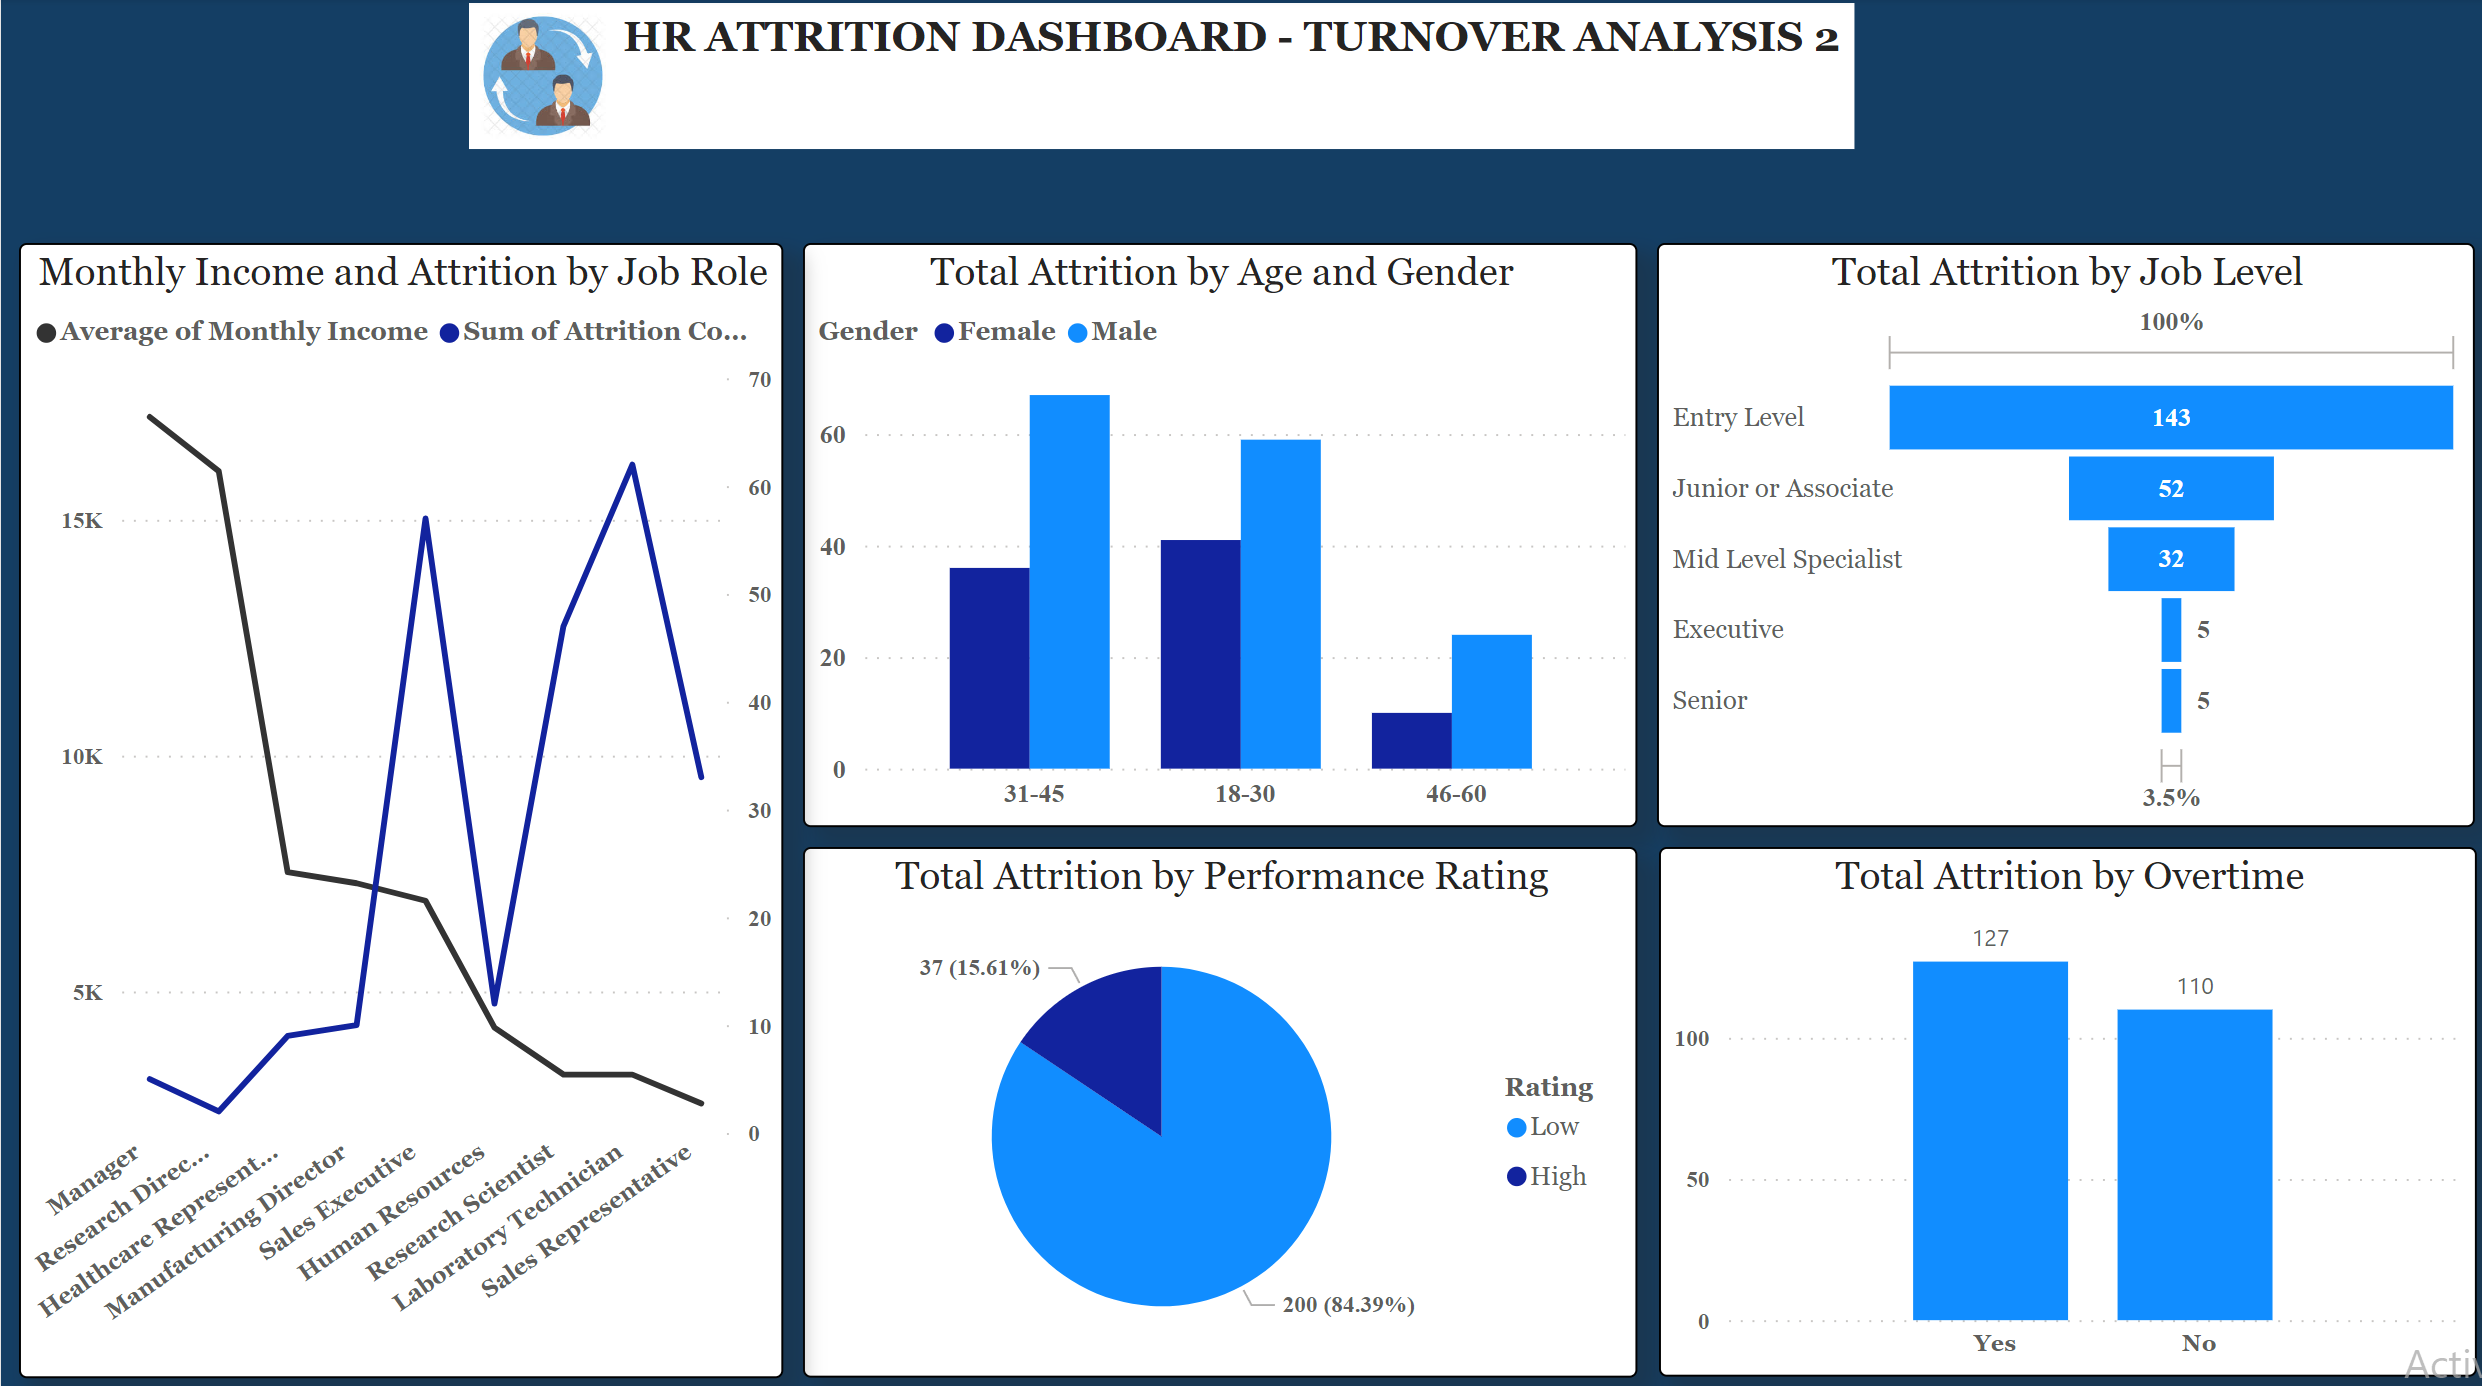

Layout of this report page (visuals, bound fields, positions):
{"tool":"powerbi","page":{"name":"TURNOVER ANALYSIS 2","canvas":[1280,720],"ordinal":2},"visuals":[{"type":"textbox","box":[240.3,3.6,711.4,74.9],"z":0},{"type":"image","box":[240.3,3.6,76.1,74.9],"z":1000},{"type":"clusteredColumnChart","title":"Total Attrition by Age and Gender","fields":{"Y":["Sum(HR-Employee-Attrition.Attraction Count)"],"Series":["HR-Employee-Attrition.Gender"],"Category":["HR-Employee-Attrition.Age (groups)"]},"box":[411.6,126.1,428.3,299.8],"z":2000},{"type":"pieChart","title":"Total Attrition by Performance Rating","fields":{"Category":["HR-Employee-Attrition.Performance Rating (groups) 2"],"Y":["Sum(HR-Employee-Attrition.Attraction Count)"]},"box":[411.6,436.6,428.3,272.4],"z":3000},{"type":"funnel","title":"Total Attrition by Job Level","fields":{"Category":["HR-Employee-Attrition.Job Level (groups)"],"Y":["Sum(HR-Employee-Attrition.Attraction Count)"]},"box":[850.6,126.1,419.9,299.8],"z":4000},{"type":"lineChart","title":"Monthly Income and Attrition by Job Role","fields":{"Y":["Avg(HR-Employee-Attrition.Monthly Income)"],"Category":["HR-Employee-Attrition.Job Role"],"Y2":["Sum(HR-Employee-Attrition.Attraction Count)"]},"box":[9.5,126.1,392.6,582.9],"z":5000},{"type":"columnChart","title":"Total Attrition by Overtime","fields":{"Category":["HR-Employee-Attrition.OverTime"],"Y":["Sum(HR-Employee-Attrition.Attraction Count)"]},"box":[851,437,420,272],"z":6000}]}

Visuals, with their boxes in screenshot pixels (x1, y1, x2, y2), scaled from the page's 1280x720 canvas onto the 2482x1386 screenshot:
textbox: <bbox>466, 7, 1845, 151</bbox>
image: <bbox>466, 7, 614, 151</bbox>
"Total Attrition by Age and Gender" clusteredColumnChart: <bbox>798, 243, 1629, 820</bbox>
"Total Attrition by Performance Rating" pieChart: <bbox>798, 840, 1629, 1365</bbox>
"Total Attrition by Job Level" funnel: <bbox>1649, 243, 2464, 820</bbox>
"Monthly Income and Attrition by Job Role" lineChart: <bbox>18, 243, 780, 1365</bbox>
"Total Attrition by Overtime" columnChart: <bbox>1650, 841, 2465, 1365</bbox>
